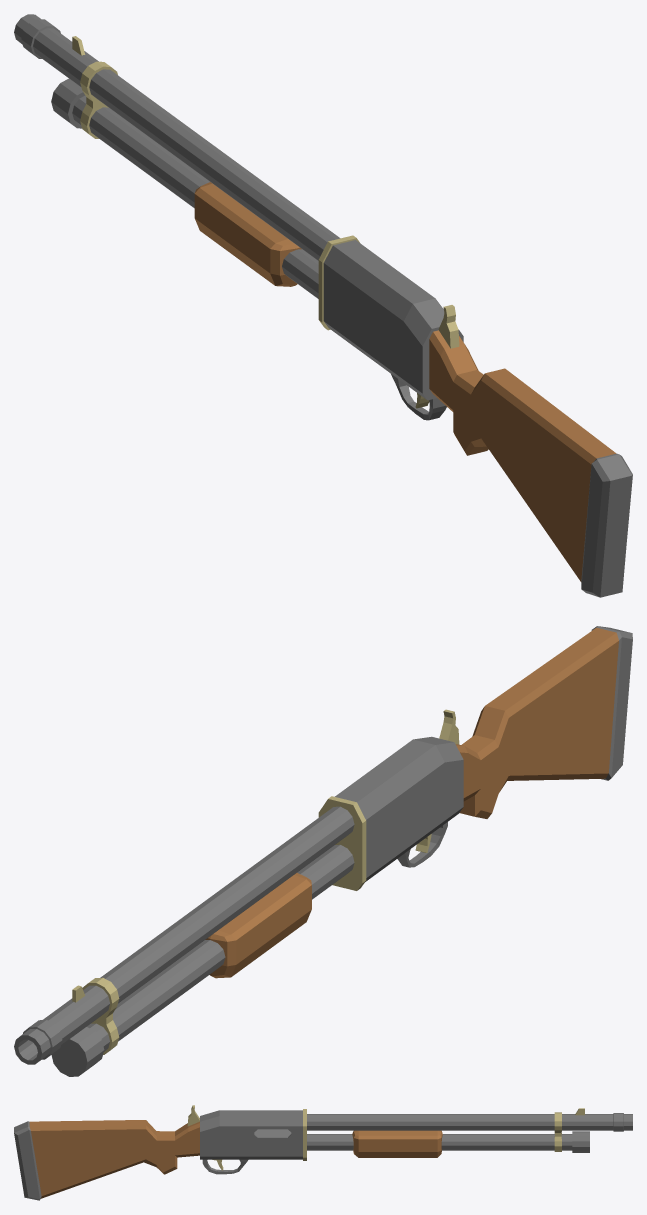
File: Pump-Shotgun-Long.fbx
3 views of the same model, one above another, from view 1: azimuth 30°, elevation 25°; view 2: azimuth 150°, elevation 25°; view 3: azimuth 270°, elevation 25° (orthographic). The views are drawn at different scales.
Parts seen in each view (by area): view 1: Shotgun_B; view 2: Shotgun_B; view 3: Shotgun_B.
Boxes of the visible parts, x1=… form: Shotgun_B: x1=14, y1=14, x2=632, y2=597; Shotgun_B: x1=14, y1=626, x2=632, y2=1076; Shotgun_B: x1=14, y1=1105, x2=632, y2=1200.
Bounding box in the file's own units: 58.58 × 224 × 1374.
